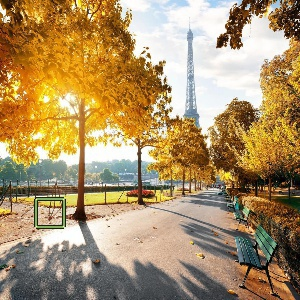square: (33, 196, 66, 229)
